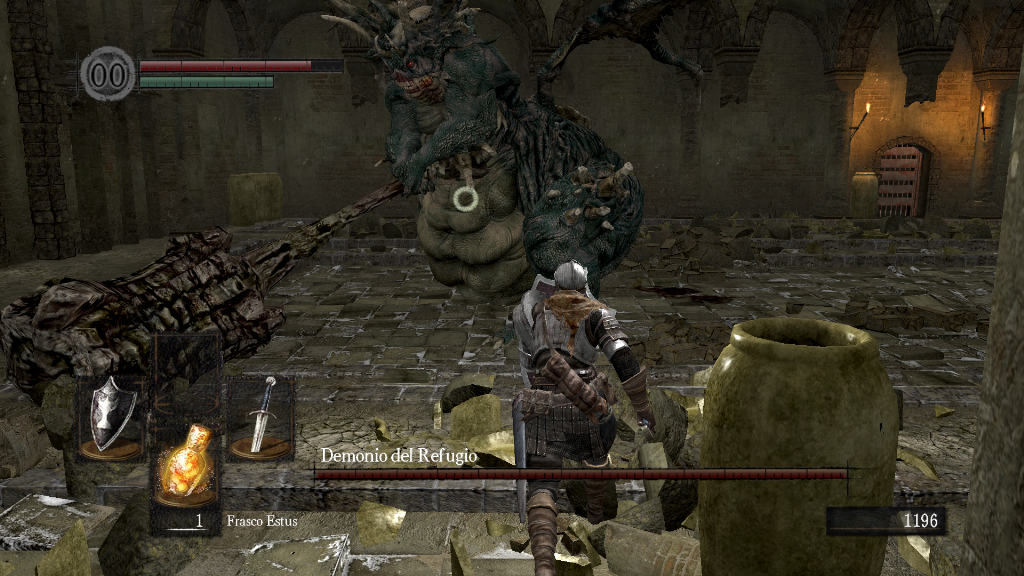asylumDemon: (326, 2, 650, 370)
bossHP: (314, 469, 847, 479)
health: (138, 58, 343, 71)
humanity: (80, 45, 136, 102)
player: (512, 258, 659, 576)
souls: (825, 506, 945, 536)
stamina: (138, 74, 274, 88)
